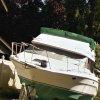Boat: (2, 23, 96, 97)
